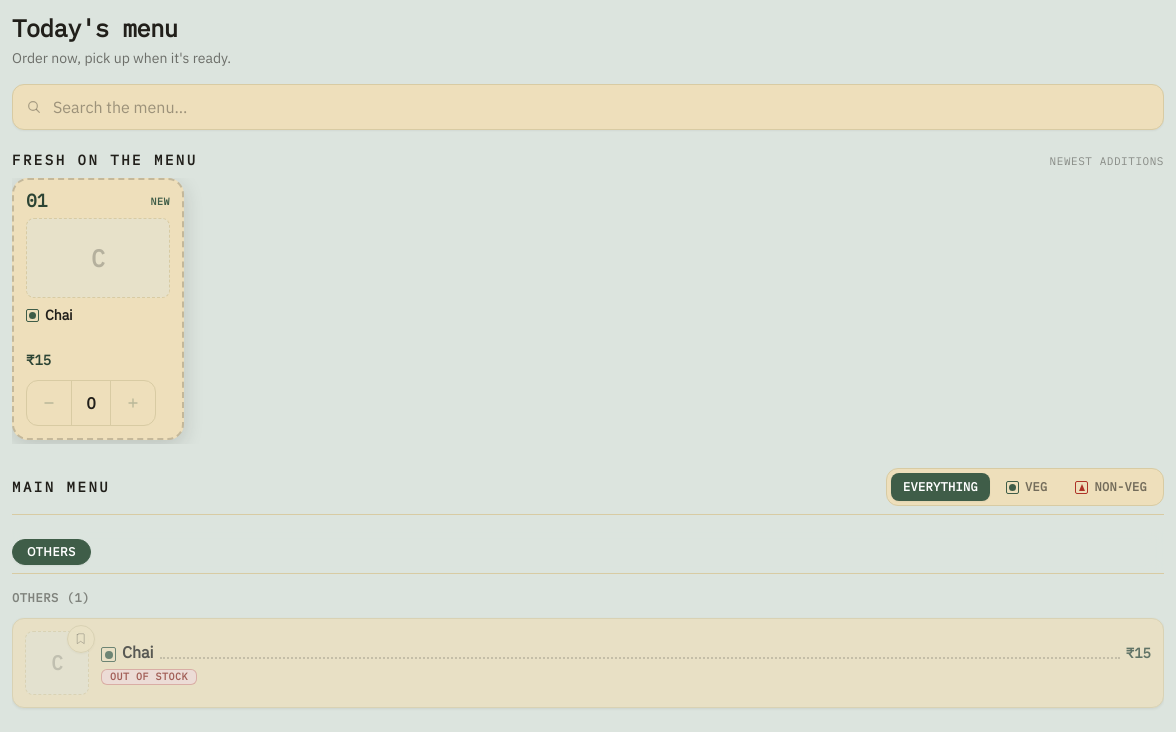
it: Menu row — Add control collapses the stepper until qty > 0 (STATUS.md § 9.9-Y4) › an unorderable item offers neither an enabled Add nor an enabled increment
The image size is (1176, 732).
Check: the text "Chai" below "01" is shown, box [45,306,73,324]
Type "Chai" into the search field labelled "Search the menu" at (588, 107), box [12,84,1164,130]
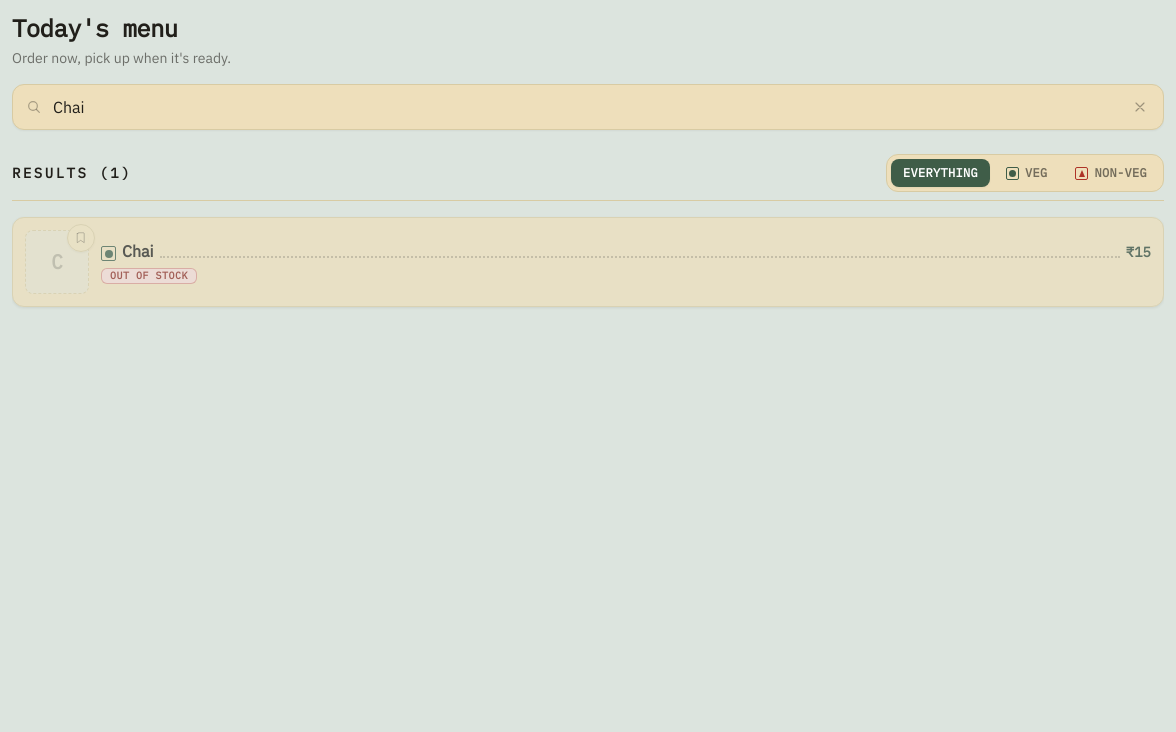
Check: the heading "Results (1)" is shown, box [12,163,132,183]
